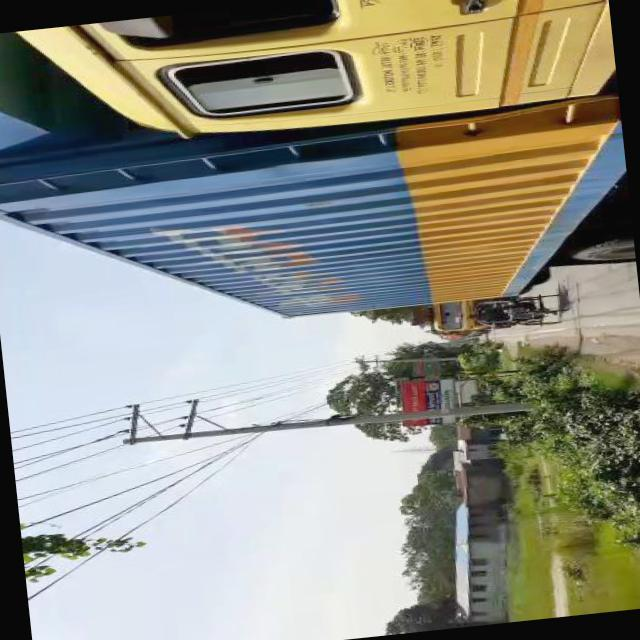motorcycle: (468, 288, 567, 332)
truck: (0, 0, 635, 347), (422, 296, 482, 340)
